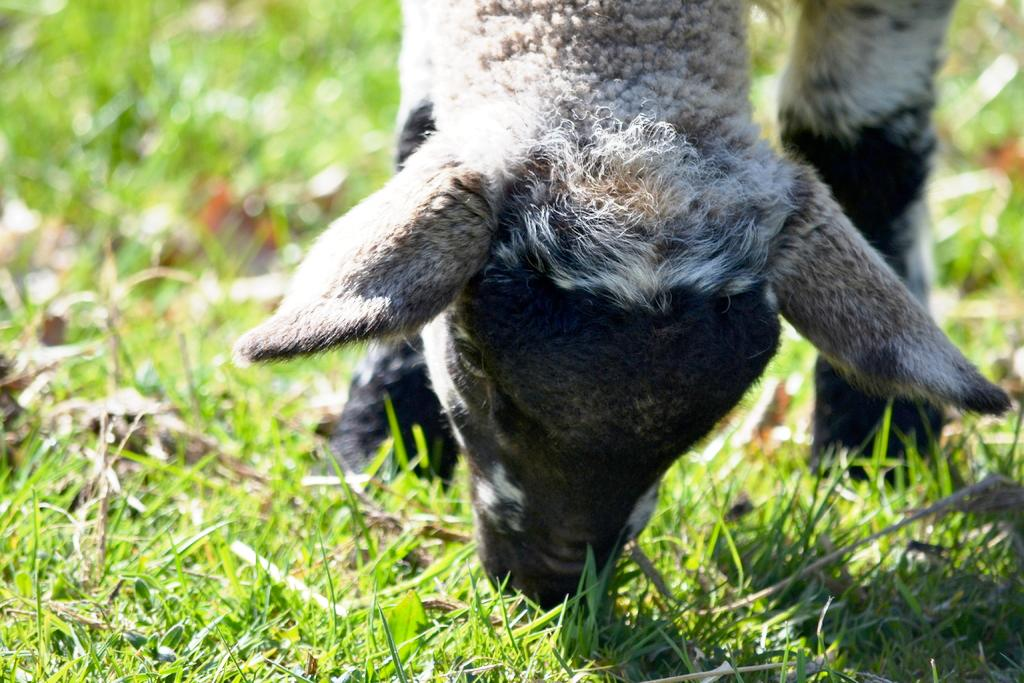Sheep: (228, 0, 1008, 620)
